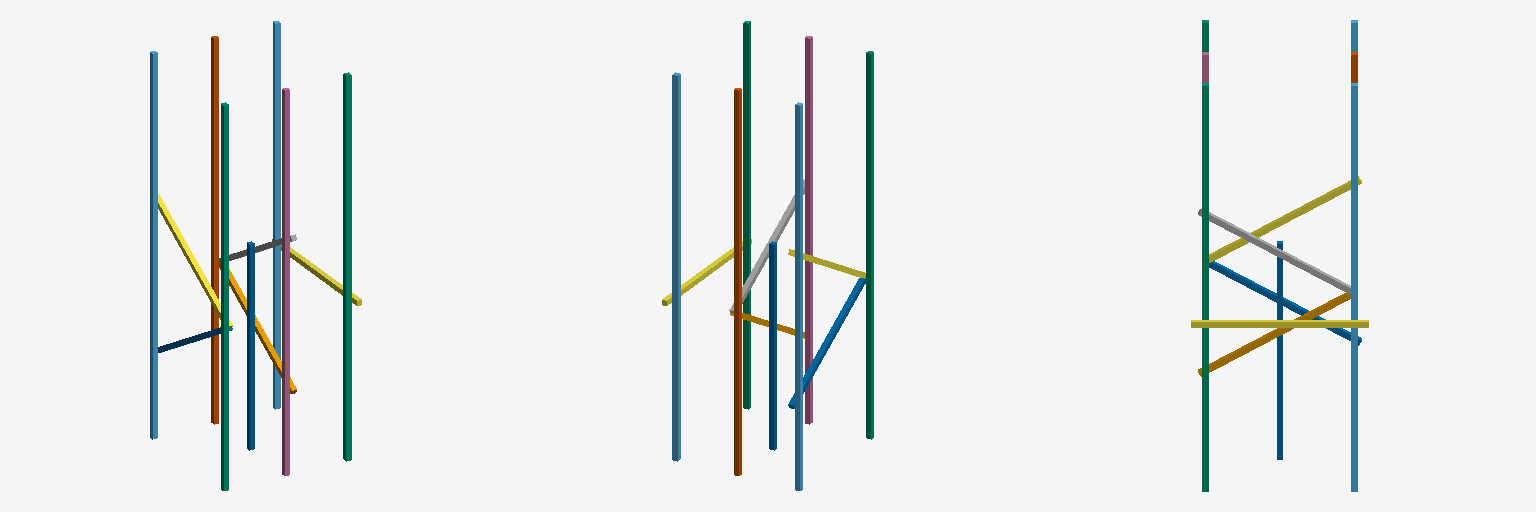
robot.urdf — pipes:
<robot name="pipes">
   <material name="Brown">
     <color rgba="83./255. 53./255. 10./255."/>
   </material>
   <material name="White">
     <color rgba="1 1 1"/>
   </material>
   <material name="Grey">
     <color rgba=".3 .3 .3"/>
   </material>
   <material name="Red">
     <color rgba="1 0 0"/>
   </material>
   <link name="world"/>

   <link name="l1">
   	<inertial>
   		<mass value=".5" />
   		<origin xyz="0 0 1.5" rpy="0 0 0"/>
		  <inertia ixx="10"  ixy="0"  ixz="0" iyy="10" iyz="0" izz="1" />
   	</inertial>
  	<visual>
      <origin xyz="0 0 1.5" rpy="0 0 0" />
      <geometry>
        <box size="0.042 0.042 3"/>
      </geometry>
      <material name="White"/>
    </visual>
    <collision>
      <origin xyz="0 0 1.5" rpy="0 0 0" />
      <geometry>
        <box size="0.042 0.042 3"/>
      </geometry>
    </collision>
   </link>
   <joint name="l1_weld" type="fixed">
    <parent link="world"/>
      <child link="l1"/>
    <origin xyz="-.5 .5 0" rpy="0 0 0" />
   </joint>
   <link name="l2">
   	<inertial>
   		<mass value=".5" />
   		<origin xyz="0 0 1.5" rpy="0 0 0"/>
		  <inertia ixx="10"  ixy="0"  ixz="0" iyy="10" iyz="0" izz="1" />
   	</inertial>
  	<visual>
      <origin xyz="0 0 1.5" rpy="0 0 0" />
      <geometry>
        <box size="0.042 0.042 3"/>
      </geometry>
      <material name="White"/>
    </visual>
    <collision>
      <origin xyz="0 0 1.5" rpy="0 0 0" />
      <geometry>
        <box size="0.042 0.042 3"/>
      </geometry>
    </collision>
   </link>
   <joint name="l2_weld" type="fixed">
    <parent link="world"/>
      <child link="l2"/>
    <origin xyz="-.5 -.5 0" rpy="0 0 0" />
   </joint>
   <link name="s1">
   	<inertial>
   		<mass value=".5" />
   		<origin xyz="0 0 .6" rpy="0 0 0"/>
		  <inertia ixx="5"  ixy="0"  ixz="0" iyy="5" iyz="0" izz="1" />
   	</inertial>
  	<visual>
      <origin xyz="0 0 0.6" rpy="0 0 0" />
      <geometry>
        <box size="0.042 0.042 1.2"/>
      </geometry>
      <material name="White"/>
    </visual>
    <collision>
      <origin xyz="0 0 0.6" rpy="0 0 0" />
      <geometry>
        <box size="0.042 0.042 1.2"/>
      </geometry>
    </collision>
   </link>
   <joint name="s1_weld" type="fixed">
    <parent link="l2"/>
      <child link="s1"/>
    <origin xyz="0.042 0 1.25" rpy="-1.047197551196598 0 0" />
   </joint>
   <link name="s2">
   	<inertial>
   		<mass value=".5" />
   		<origin xyz="0 0 .6" rpy="0 0 0"/>
		  <inertia ixx="5"  ixy="0"  ixz="0" iyy="5" iyz="0" izz="1" />
   	</inertial>
  	<visual>
      <origin xyz="0 0 0.6" rpy="0 0 0" />
      <geometry>
        <box size="0.042 0.042 1.2"/>
      </geometry>
      <material name="White"/>
    </visual>
    <collision>
      <origin xyz="0 0 0.6" rpy="0 0 0" />
      <geometry>
        <box size="0.042 0.042 1.2"/>
      </geometry>
    </collision>
   </link>
   <joint name="s2_weld" type="fixed">
    <parent link="l2"/>
      <child link="s2"/>
    <origin xyz="0.042 0 1.25" rpy="-2.094395102393196 0 0" />
   </joint>

   <link name="l3">
   	<inertial>
   		<mass value=".5" />
   		<origin xyz="0 0 1.5" rpy="0 0 0"/>
		  <inertia ixx="10"  ixy="0"  ixz="0" iyy="10" iyz="0" izz="1" />
   	</inertial>
  	<visual>
      <origin xyz="0 0 1.5" rpy="0 0 0" />
      <geometry>
        <box size="0.042 0.042 3"/>
      </geometry>
      <material name="White"/>
    </visual>
    <collision>
      <origin xyz="0 0 1.5" rpy="0 0 0" />
      <geometry>
        <box size="0.042 0.042 3"/>
      </geometry>
    </collision>
   </link>
   <joint name="l3_weld" type="fixed">
    <parent link="world"/>
      <child link="l3"/>
    <origin xyz="0 .5 0" rpy="0 0 0" />
   </joint>
   <link name="l4">
   	<inertial>
   		<mass value=".5" />
   		<origin xyz="0 0 1.5" rpy="0 0 0"/>
		  <inertia ixx="10"  ixy="0"  ixz="0" iyy="10" iyz="0" izz="1" />
   	</inertial>
  	<visual>
      <origin xyz="0 0 1.5" rpy="0 0 0" />
      <geometry>
        <box size="0.042 0.042 3"/>
      </geometry>
      <material name="White"/>
    </visual>
    <collision>
      <origin xyz="0 0 1.5" rpy="0 0 0" />
      <geometry>
        <box size="0.042 0.042 3"/>
      </geometry>
    </collision>
   </link>
   <joint name="l4_weld" type="fixed">
    <parent link="world"/>
      <child link="l4"/>
    <origin xyz="0 -.5 0" rpy="0 0 0" />
   </joint>
  <link name="s3">
   	<inertial>
   		<mass value=".5" />
   		<origin xyz="0 0 .6" rpy="0 0 0"/>
		  <inertia ixx="5"  ixy="0"  ixz="0" iyy="5" iyz="0" izz="1" />
   	</inertial>
  	<visual>
      <origin xyz="0 0 0.6" rpy="0 0 0" />
      <geometry>
        <box size="0.042 0.042 1.2"/>
      </geometry>
      <material name="White"/>
    </visual>
    <collision>
      <origin xyz="0 0 0.6" rpy="0 0 0" />
      <geometry>
        <box size="0.042 0.042 1.2"/>
      </geometry>
    </collision>
   </link>
   <joint name="s3_weld" type="fixed">
    <parent link="l3"/>
      <child link="s3"/>
    <origin xyz="0.042 0 1.25" rpy="1.047197551196598 0 0" />
   </joint>
  <link name="s4">
   	<inertial>
   		<mass value=".5" />
   		<origin xyz="0 0 .6" rpy="0 0 0"/>
		  <inertia ixx="5"  ixy="0"  ixz="0" iyy="5" iyz="0" izz="1" />
   	</inertial>
  	<visual>
      <origin xyz="0 0 0.6" rpy="0 0 0" />
      <geometry>
        <box size="0.042 0.042 1.2"/>
      </geometry>
      <material name="White"/>
    </visual>
    <collision>
      <origin xyz="0 0 0.6" rpy="0 0 0" />
      <geometry>
        <box size="0.042 0.042 1.2"/>
      </geometry>
    </collision>
   </link>
   <joint name="s4_weld" type="fixed">
    <parent link="l3"/>
      <child link="s4"/>
    <origin xyz="0.042 0 1.25" rpy="2.094395102393196 0 0" />
   </joint>

   <link name="l5">
   	<inertial>
   		<mass value=".5" />
   		<origin xyz="0 0 1.5" rpy="0 0 0"/>
		  <inertia ixx="10"  ixy="0"  ixz="0" iyy="10" iyz="0" izz="1" />
   	</inertial>
  	<visual>
      <origin xyz="0 0 1.5" rpy="0 0 0" />
      <geometry>
        <box size="0.042 0.042 3"/>
      </geometry>
      <material name="White"/>
    </visual>
    <collision>
      <origin xyz="0 0 1.5" rpy="0 0 0" />
      <geometry>
        <box size="0.042 0.042 3"/>
      </geometry>
    </collision>
   </link>
   <joint name="l5_weld" type="fixed">
    <parent link="world"/>
      <child link="l5"/>
    <origin xyz=".5 .5 0" rpy="0 0 0" />
   </joint>
   <link name="l6">
   	<inertial>
   		<mass value=".5" />
   		<origin xyz="0 0 1.5" rpy="0 0 0"/>
		  <inertia ixx="10"  ixy="0"  ixz="0" iyy="10" iyz="0" izz="1" />
   	</inertial>
  	<visual>
      <origin xyz="0 0 1.5" rpy="0 0 0" />
      <geometry>
        <box size="0.042 0.042 3"/>
      </geometry>
      <material name="White"/>
    </visual>
    <collision>
      <origin xyz="0 0 1.5" rpy="0 0 0" />
      <geometry>
        <box size="0.042 0.042 3"/>
      </geometry>
    </collision>
   </link>
   <joint name="l6_weld" type="fixed">
    <parent link="world"/>
      <child link="l6"/>
    <origin xyz=".5 -.5 0" rpy="0 0 0" />
   </joint>
  <link name="s5">
   	<inertial>
   		<mass value=".5" />
   		<origin xyz="0 0 0.6" rpy="0 0 0"/>
		  <inertia ixx="5"  ixy="0"  ixz="0" iyy="5" iyz="0" izz="1" />
   	</inertial>
  	<visual>
      <origin xyz="0 0 .6" rpy="0 0 0" />
      <geometry>
        <box size="0.042 0.042 1.2"/>
      </geometry>
      <material name="White"/>
    </visual>
    <collision>
      <origin xyz="0 0 .6" rpy="0 0 0" />
      <geometry>
        <box size="0.042 0.042 1.2"/>
      </geometry>
    </collision>
   </link>
   <joint name="s5_weld" type="fixed">
    <parent link="l5"/>
      <child link="s5"/>
    <origin xyz="0.042 .1 1.25" rpy="1.570796326794897 0 0" />
   </joint>

   <link name="m1">
   	<inertial>
   		<mass value=".5" />
   		<origin xyz="0 0 .8" rpy="0 0 0"/>
		  <inertia ixx="10"  ixy="0"  ixz="0" iyy="10" iyz="0" izz="1" />
   	</inertial>
  	<visual>
      <origin xyz="0 0 .8" rpy="0 0 0" />
      <geometry>
        <box size="0.042 0.042 1.6"/>
      </geometry>
      <material name="White"/>
    </visual>
    <collision>
      <origin xyz="0 0 .8" rpy="0 0 0" />
      <geometry>
        <box size="0.042 0.042 1.6"/>
      </geometry>
    </collision>
   </link>
   <joint name="m1_weld" type="fixed">
    <parent link="world"/>
      <child link="m1"/>
    <origin xyz="0 0 0" rpy="0 0 0" />
   </joint>

</robot>

--- Facts derived from the render (not from the file) ---
The picture shows the robot from 3 angles, left to right: view 1: azimuth 30°, elevation 25°; view 2: azimuth 150°, elevation 25°; view 3: azimuth 270°, elevation 25°; orthographic projection.
Model pipes with 13 links and 12 joints (12 fixed), rooted at world, posed all joints at 0.
Visible links, largest first — view 1: l6, l2, l1, l4, l5, l3, m1, s1, s4, s5; view 2: l5, l1, l2, l3, l4, l6, m1, s2, s3, s5; view 3: l5, l6, s5, s3, s1, s4, m1, s2.
Link boxes in pixels (<box>): l6: <box>343,72,351,461</box>; l2: <box>221,102,228,490</box>; l1: <box>150,51,157,439</box>; l4: <box>282,88,289,475</box>; l5: <box>273,21,280,409</box>; l3: <box>211,36,218,424</box>; m1: <box>247,241,254,450</box>; s1: <box>158,194,232,327</box>; s4: <box>219,262,296,393</box>; s5: <box>272,239,361,305</box>; l5: <box>672,72,680,461</box>; l1: <box>795,102,802,490</box>; l2: <box>866,51,873,439</box>; l3: <box>734,88,741,475</box>; l4: <box>805,36,812,424</box>; l6: <box>743,21,750,409</box>; m1: <box>769,241,776,450</box>; s2: <box>788,277,865,408</box>; s3: <box>729,179,804,312</box>; s5: <box>662,239,751,305</box>; l5: <box>1351,83,1357,491</box>; l6: <box>1202,83,1208,491</box>; s5: <box>1191,320,1368,327</box>; s3: <box>1198,208,1350,294</box>; s1: <box>1209,176,1361,262</box>; s4: <box>1198,293,1350,376</box>; m1: <box>1277,241,1282,459</box>; s2: <box>1209,261,1361,345</box>.
Bounding box of the posed robot: 1.08 × 1.2 × 3 m (x, y, z).
Geometry: primitives only (box / cylinder / sphere), no mesh files.
